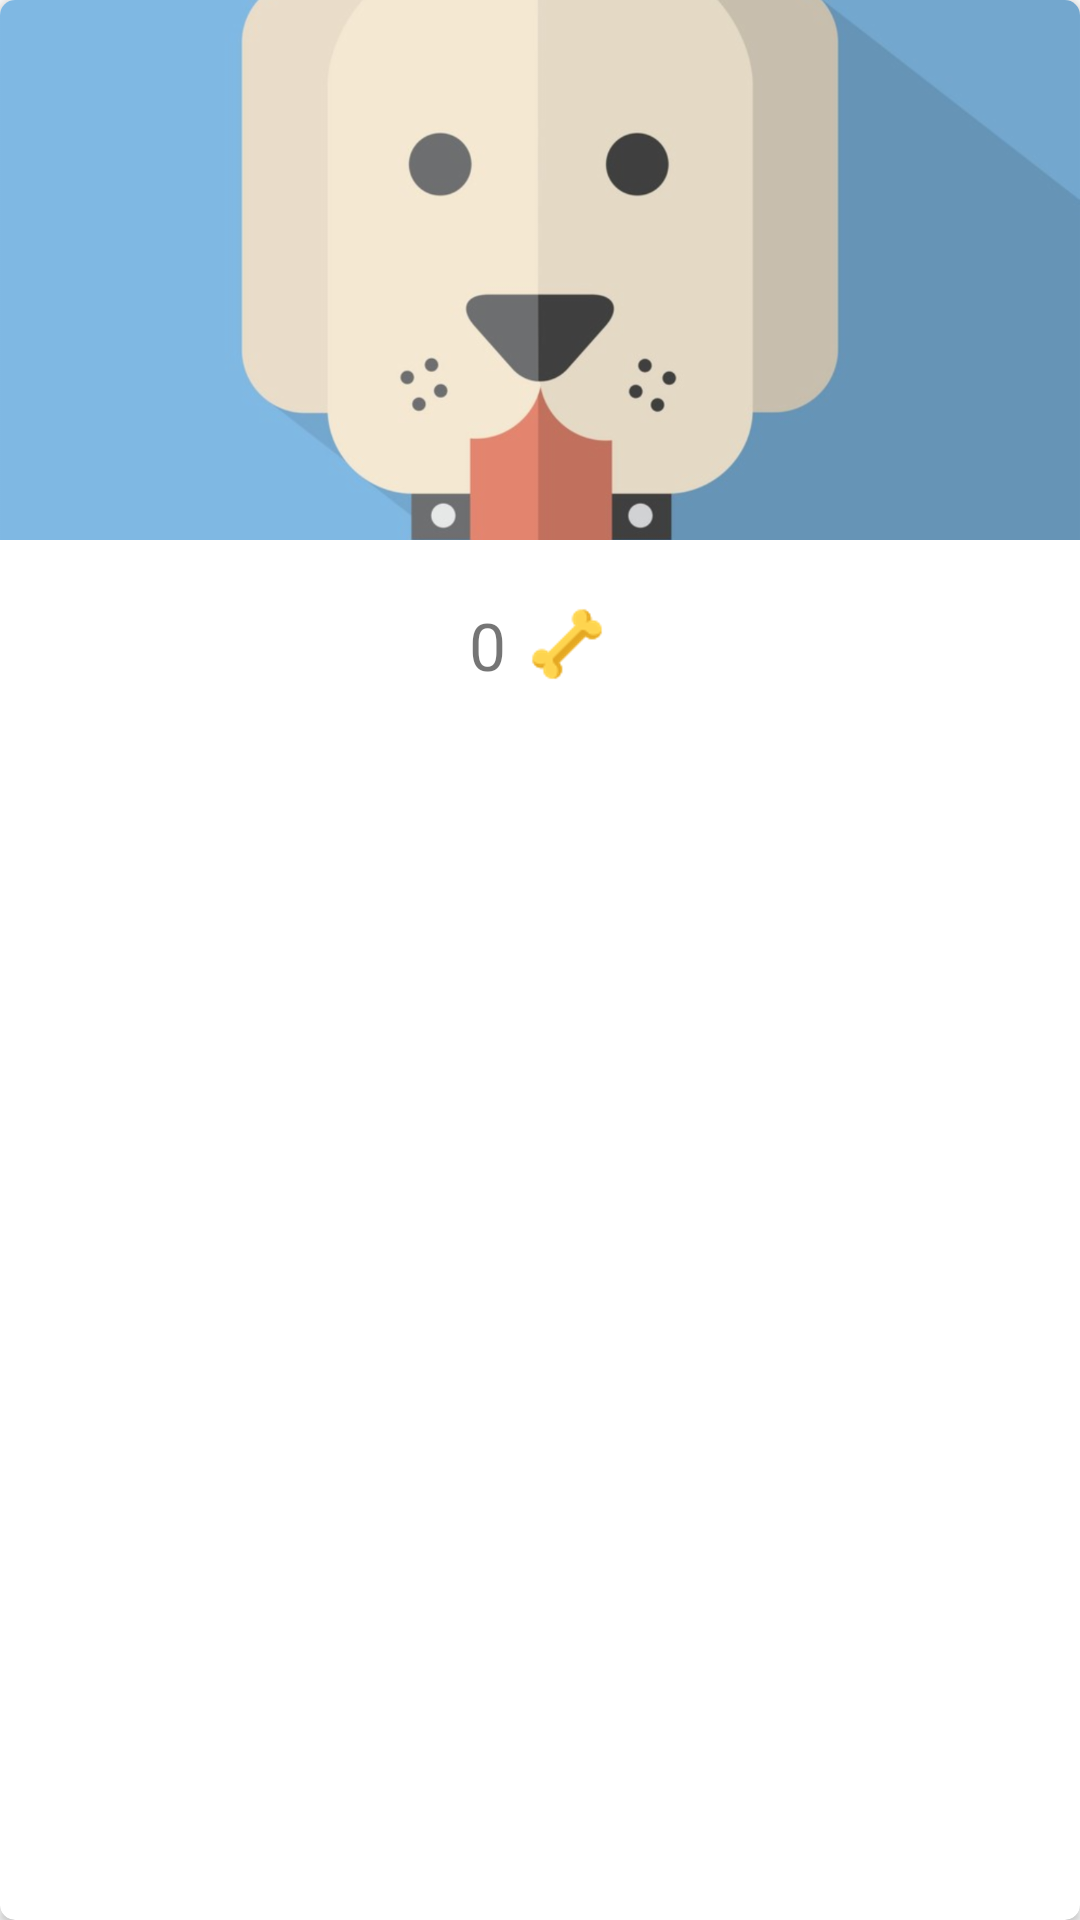

Icon bounding boxes for this 1080 x 1920 phone screenshot, format {"x1": x1, "y1": y1, "x2": x2, "y2": y2}:
bone: {"x1": 532, "y1": 609, "x2": 602, "y2": 679}
